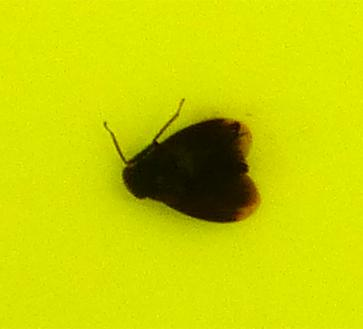Hemiptera: (100, 100, 263, 229)
